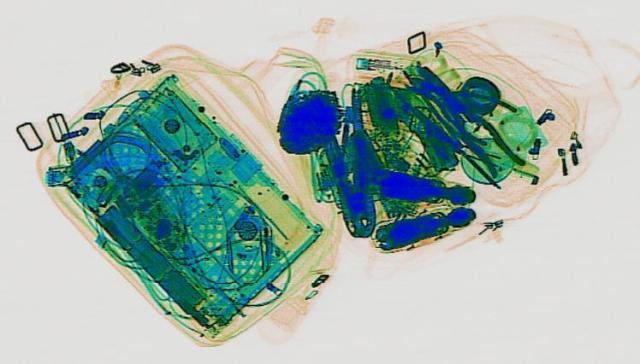Pliers: (402, 62, 532, 175), (384, 64, 536, 145), (314, 103, 386, 237)
